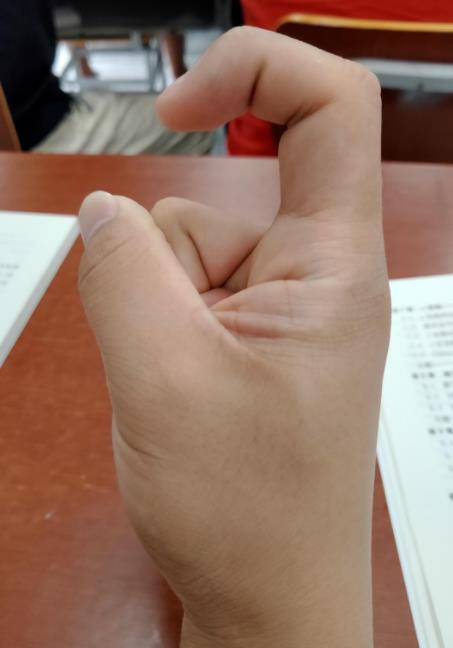anticlockwise: (72, 22, 393, 597)
